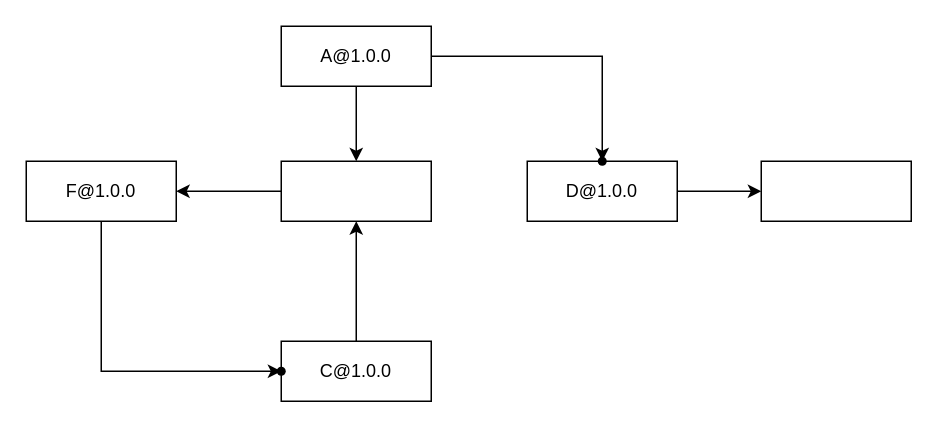
Some shapes in this 938 by 428 pixel diagram are drawn without their labels. Here are the shapes that lost their labels. From the top down, the centre of each, then its label:
At pixel 355 190: "B@1.0.0".
At pixel 835 190: "E@1.0.0".
